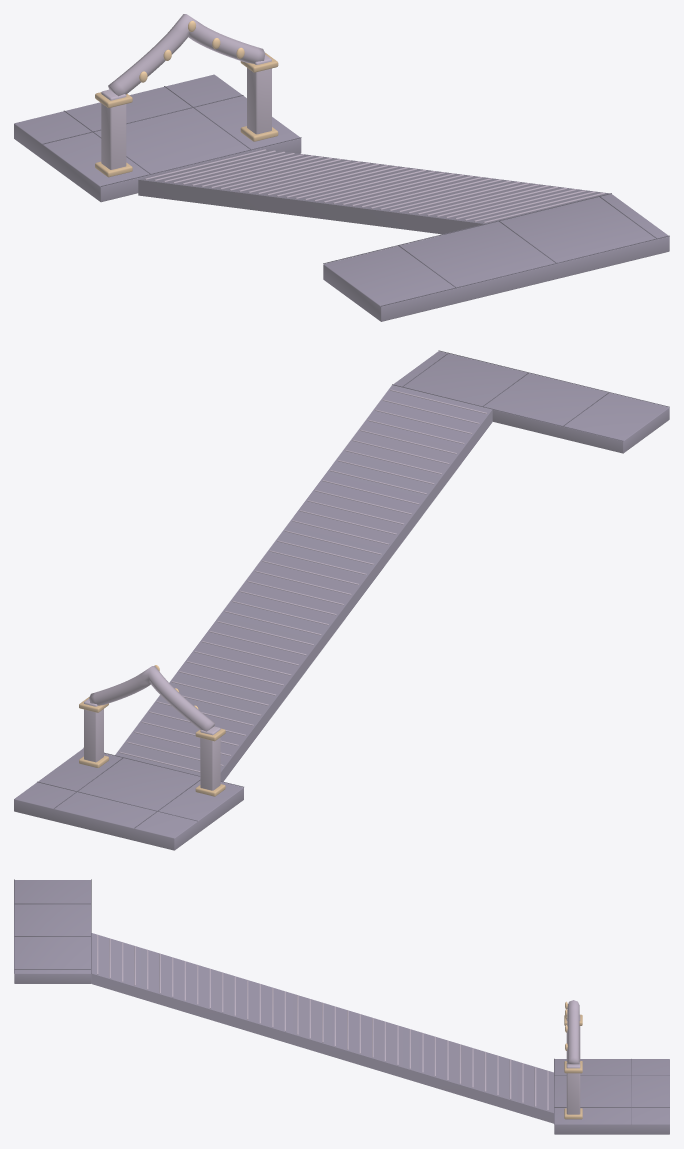
Rendered from castle_district_gate_cursed.glb.
The picture shows the model from 3 angles, top to bottom: view 1: azimuth 30°, elevation 25°; view 2: azimuth 150°, elevation 25°; view 3: azimuth 270°, elevation 25°; orthographic projection. The views are drawn at different scales.
Parts seen in each view (by area): view 1: castle_district_gate_cursed_surface; view 2: castle_district_gate_cursed_surface; view 3: castle_district_gate_cursed_surface.
Boxes of the visible parts, x1,y1,x2,y2 form: castle_district_gate_cursed_surface: (14, 14, 669, 321); castle_district_gate_cursed_surface: (14, 350, 669, 850); castle_district_gate_cursed_surface: (14, 879, 669, 1134).
Size of the model in its own units: 13 by 8.62 by 34.01.
